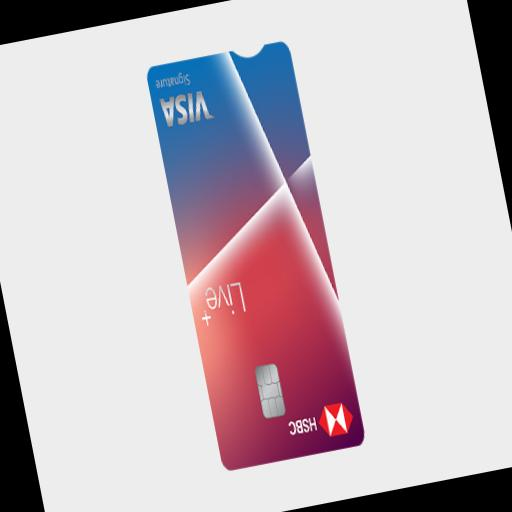credit-card: (121, 41, 364, 467)
